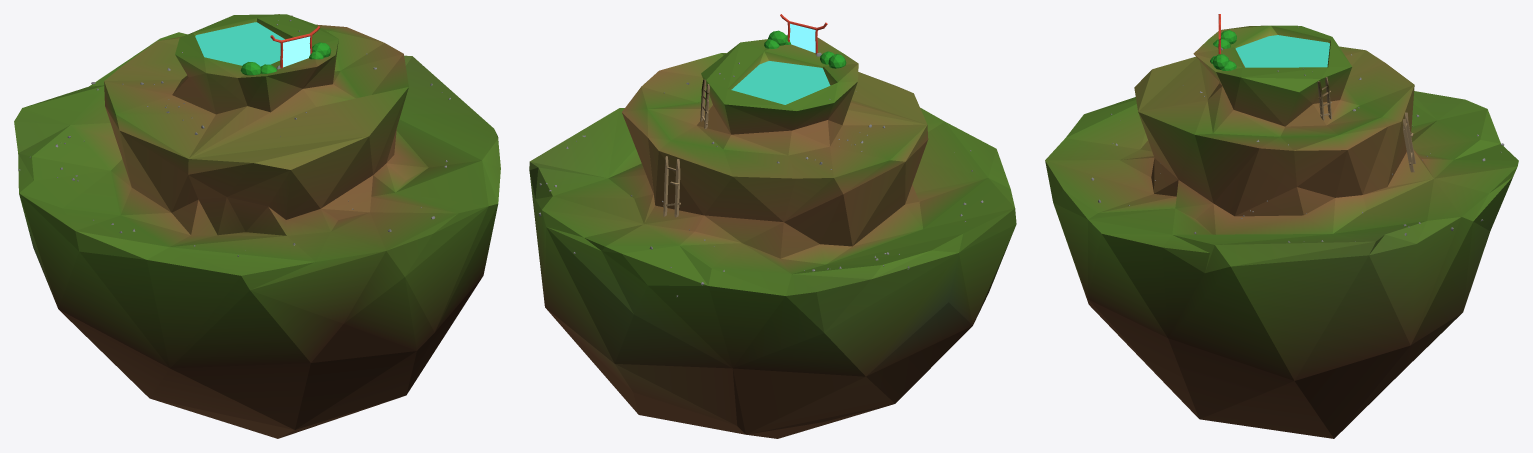
The picture shows the model from 3 angles, left to right: view 1: azimuth 30°, elevation 25°; view 2: azimuth 150°, elevation 25°; view 3: azimuth 270°, elevation 25°; orthographic projection. The views are drawn at different scales.
Parts seen in each view (by area): view 1: Island.021, Water, Magical Portal; view 2: Island.021, Water, Bottom Ladder, Magical Portal; view 3: Island.021, Water.
Boxes of the visible parts, x1=… form: Island.021: x1=14, y1=14, x2=500, y2=438; Water: x1=195, y1=22, x2=284, y2=66; Magical Portal: x1=282, y1=36, x2=310, y2=67; Island.021: x1=529, y1=37, x2=1016, y2=438; Water: x1=731, y1=61, x2=830, y2=104; Bottom Ladder: x1=663, y1=156, x2=680, y2=217; Magical Portal: x1=789, y1=23, x2=815, y2=52; Island.021: x1=1045, y1=25, x2=1518, y2=438; Water: x1=1235, y1=35, x2=1329, y2=67.
Size of the model in its own units: 41.96 by 39.87 by 43.73.
